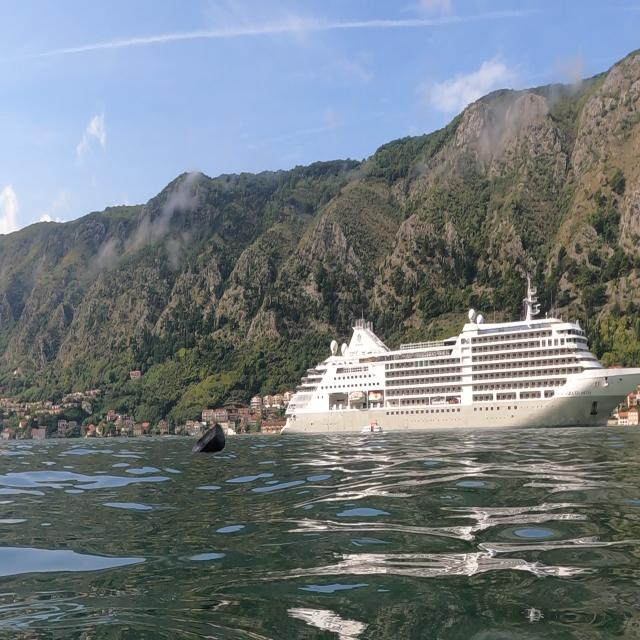boat: (278, 271, 638, 436)
buoy: (189, 423, 232, 467)
